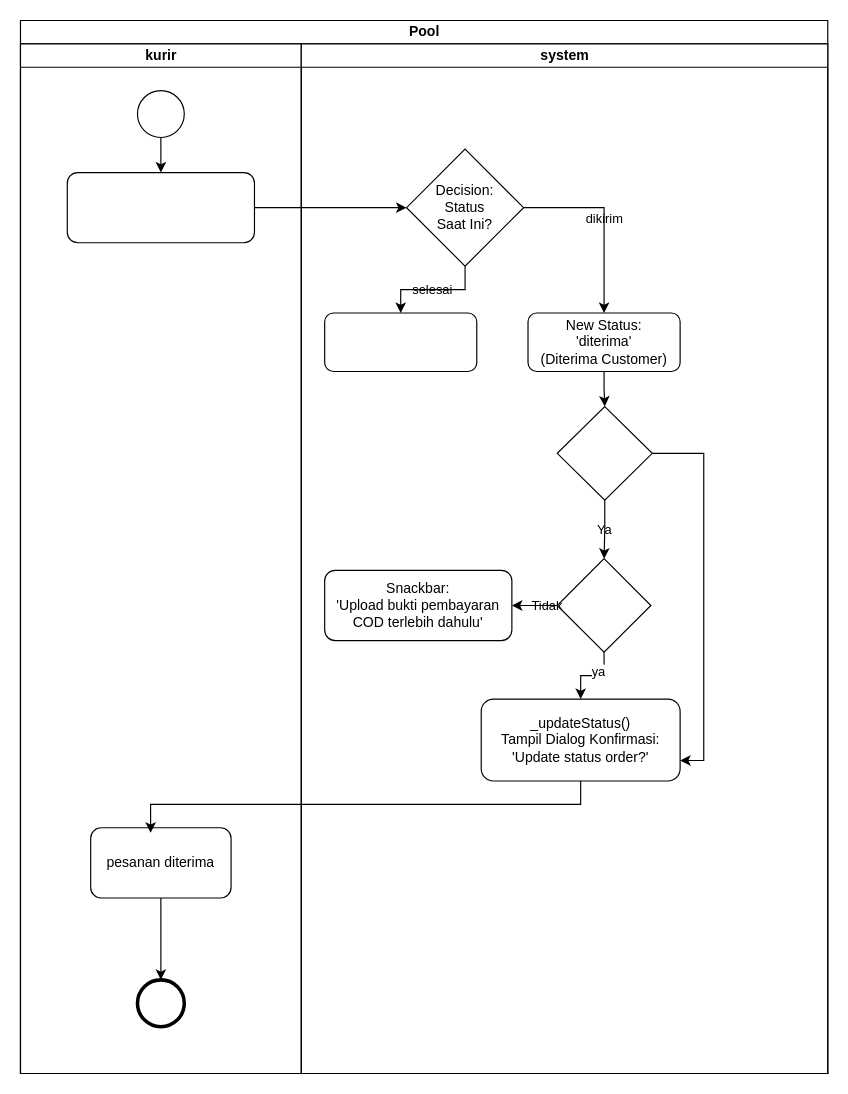
This 848x1094 diagram has some shape labels left out. The centre of each missing label's shape, as x and y in pixels:
COD?: (x=604, y=452)
Has Bukti Bayar?: (x=603, y=605)
Klik 'Update Status' pada Order Card: (x=160, y=207)
New Status: 'dikirim' (Mulai Pengiriman): (x=400, y=341)
